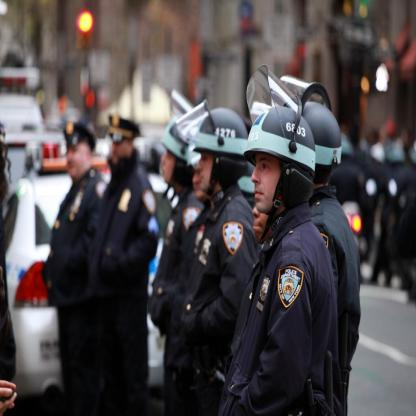Helmet: (269, 76, 340, 190), (176, 96, 247, 205), (157, 91, 195, 205)
